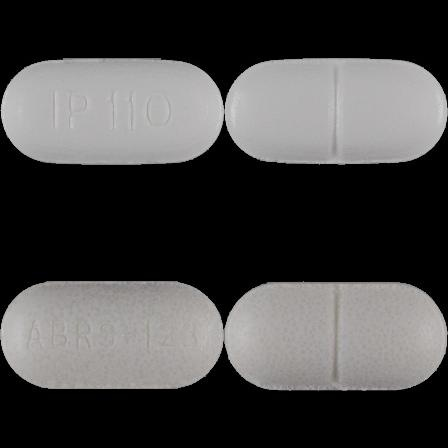55289-737: (0, 0, 224, 224)
